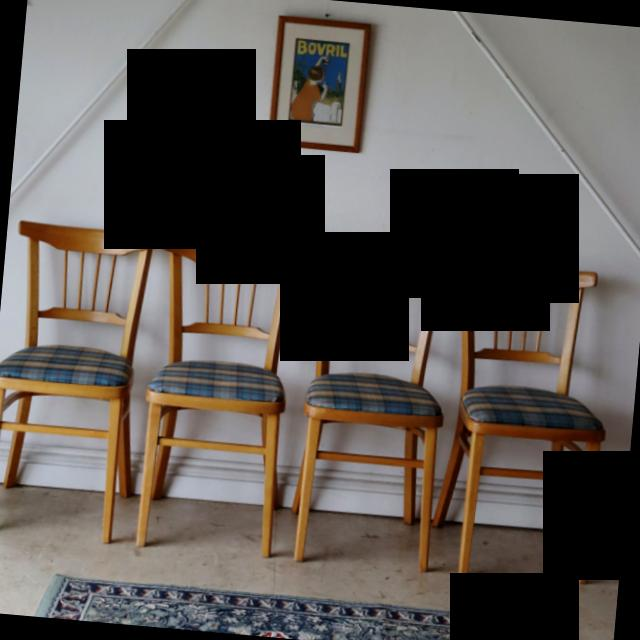chair vintage: (0, 216, 159, 549)
